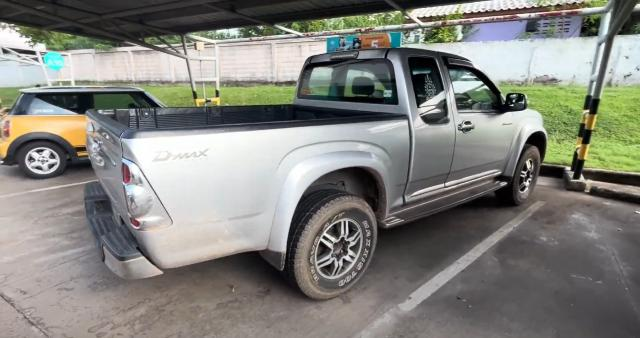pickup-truck: (82, 47, 546, 304)
